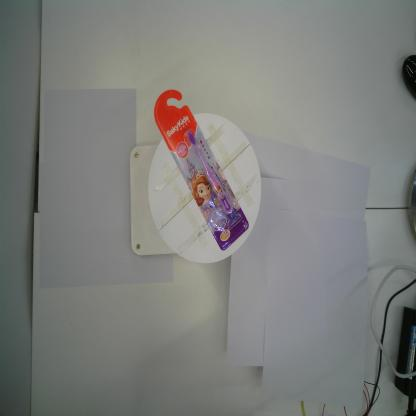Personal Hygiene: (154, 90, 249, 252)
